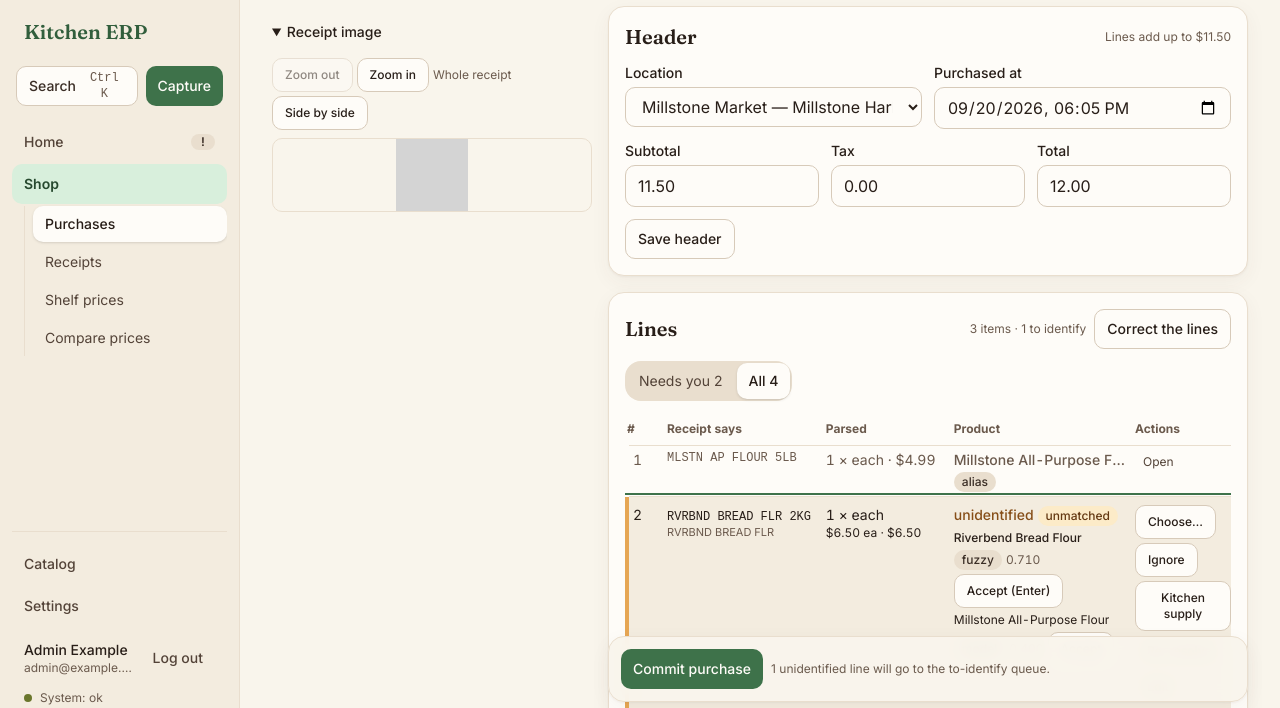
Scenario: receipt review › opens the product typeahead with / and resolves the line with the chosen product
(page scrolled)
Type keys "/"
(page scrolled)
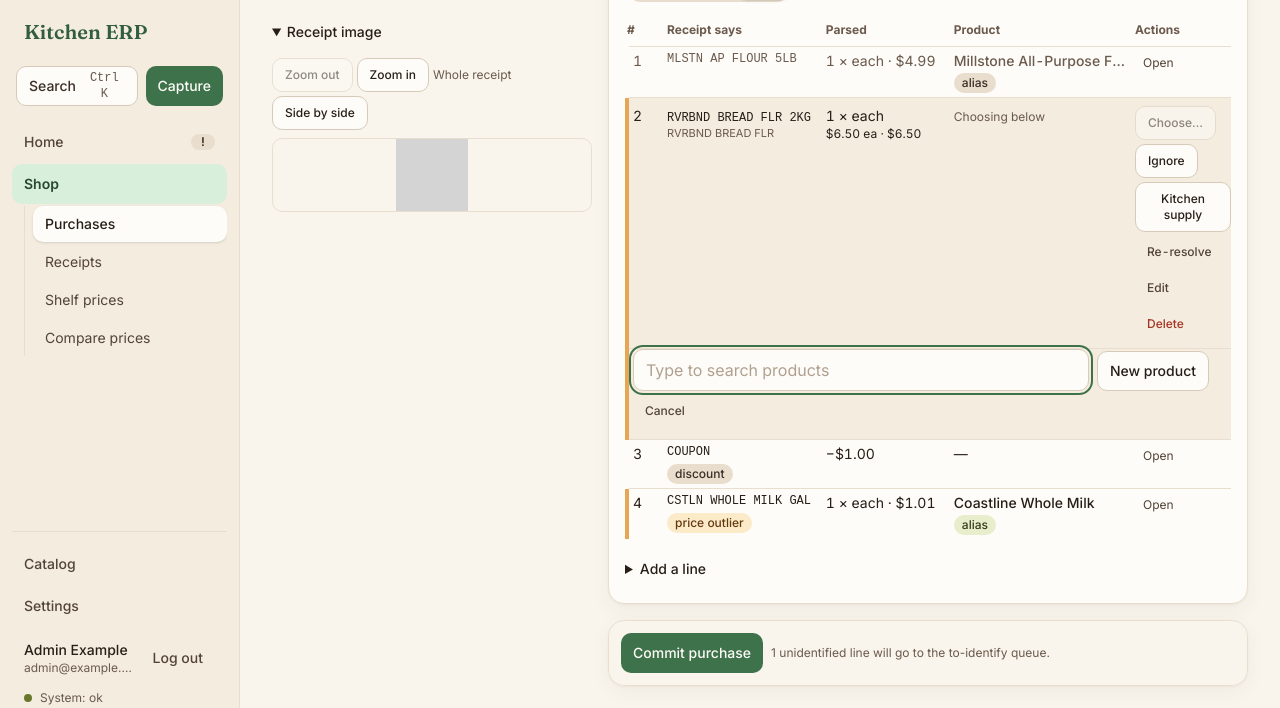
Type keys "flour"
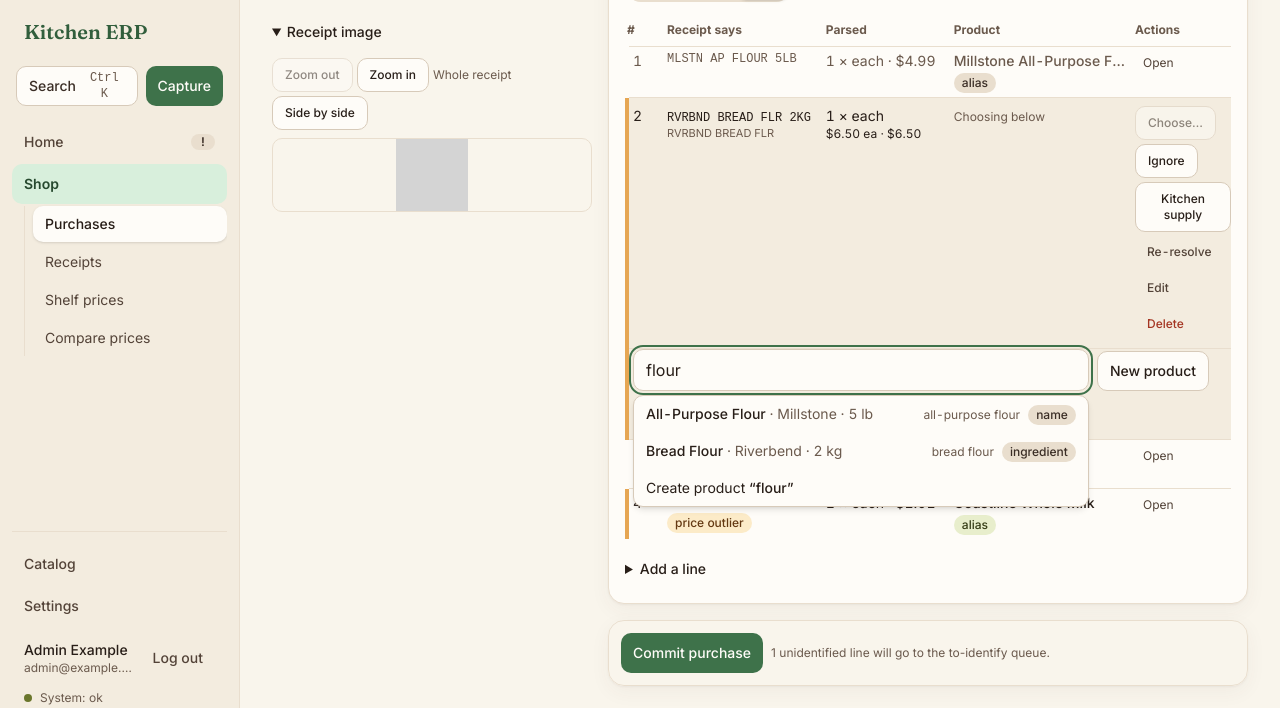
# Scoped to the typeahead: the discount line's "Attach to" select also has an option naming this product.
Click the option "All-Purpose Flour · Millstone · 5 lb all-purpose flour name" at {"x": 861, "y": 415}, box x1=646 y1=405 x2=1076 y2=425
(page scrolled)
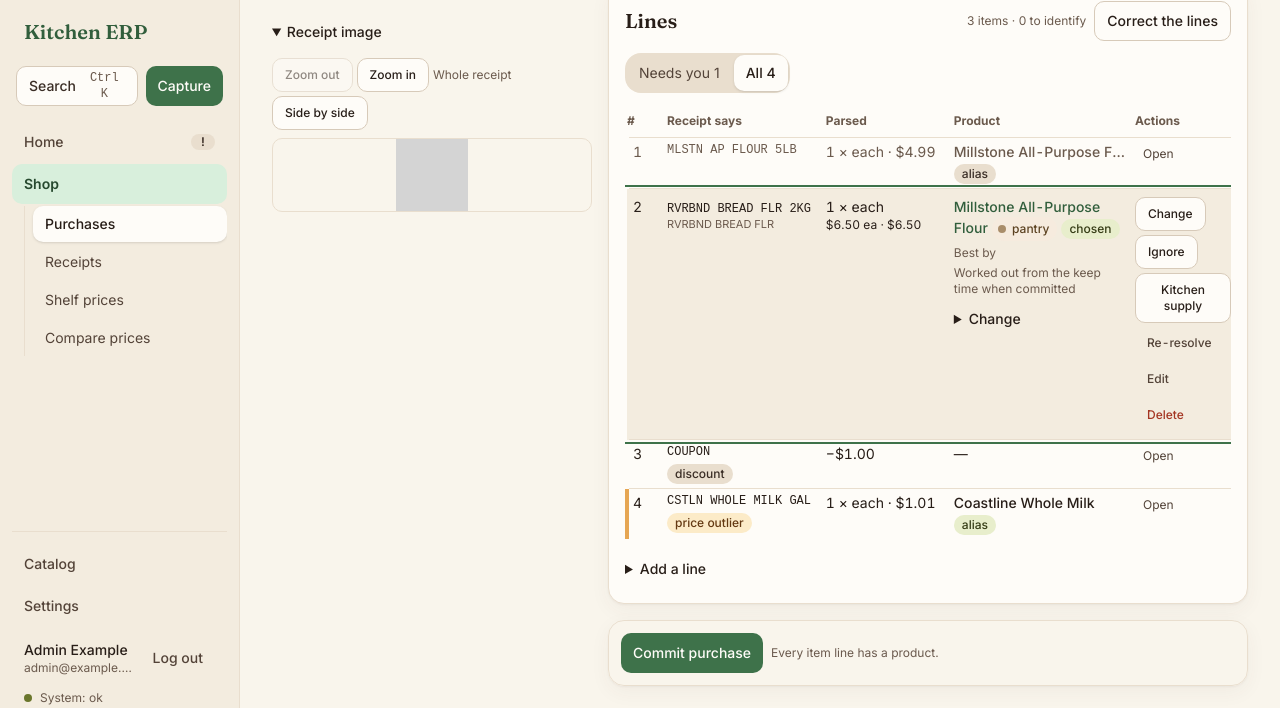
expect the dropdown labelled "Product for line 2" is not shown: met
expect the link "Millstone All-Purpose Flour" is shown: met, box x1=954 y1=198 x2=1100 y2=236
